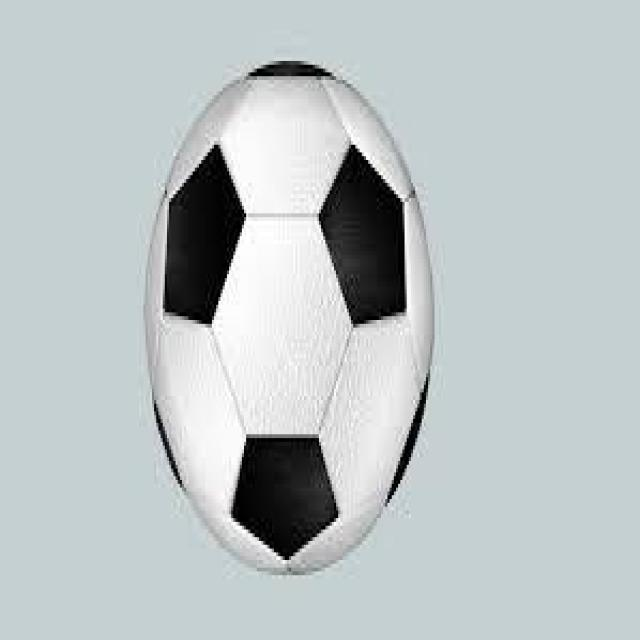Soccer Ball: (148, 61, 434, 579)
